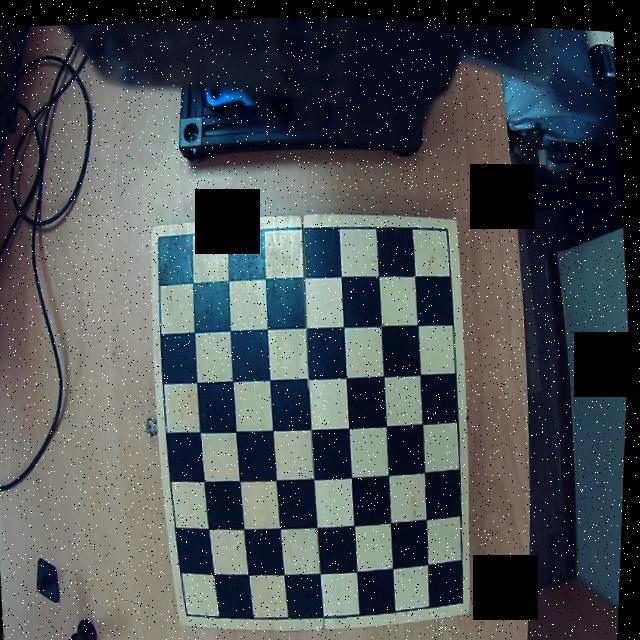chess-table-corners: (154, 224, 178, 252), (435, 213, 459, 238), (456, 580, 474, 610), (185, 600, 206, 624)
